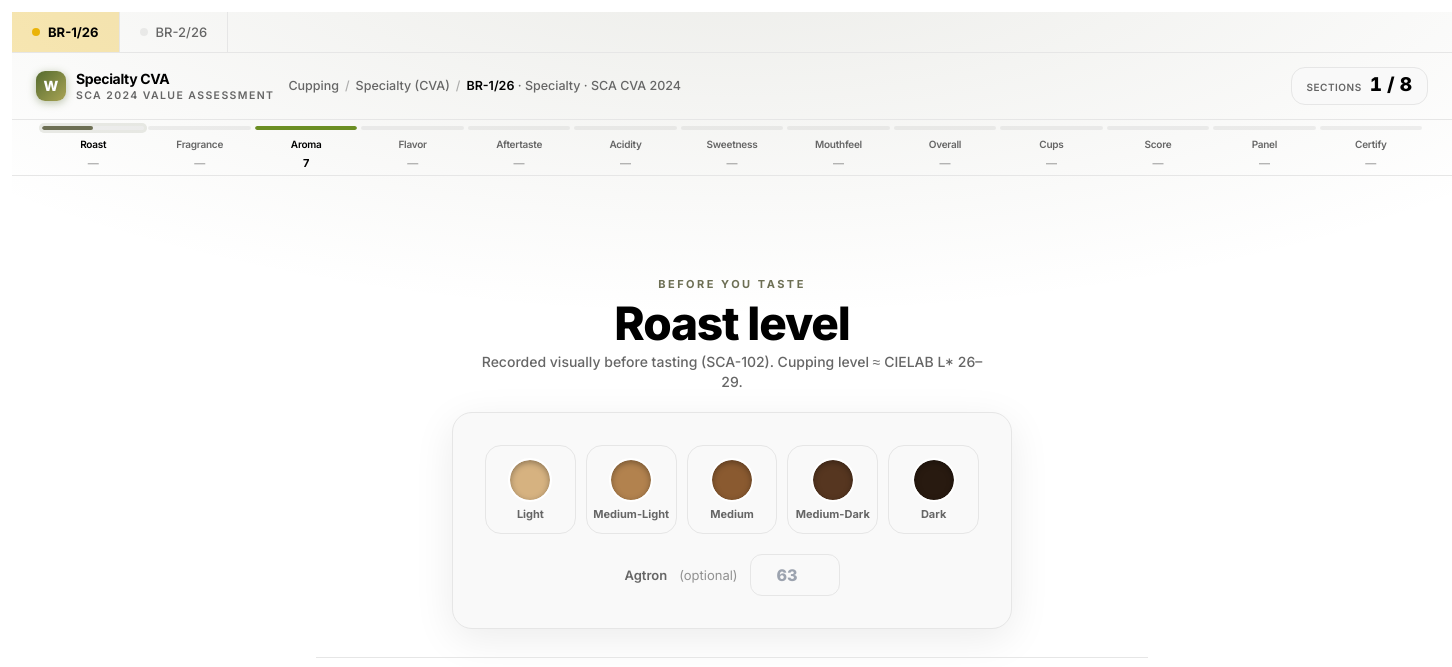
Test: CvaJourney step-major navigation (SCA-102 §7; locked decision 2) › the lot strip says who is rated for THIS section
Expected: the button "Sections 1 / 8" is shown, [1291,67,1428,105]
Click the button "Aroma 7". click: {"x": 306, "y": 148}
box: [253,120,359,175]
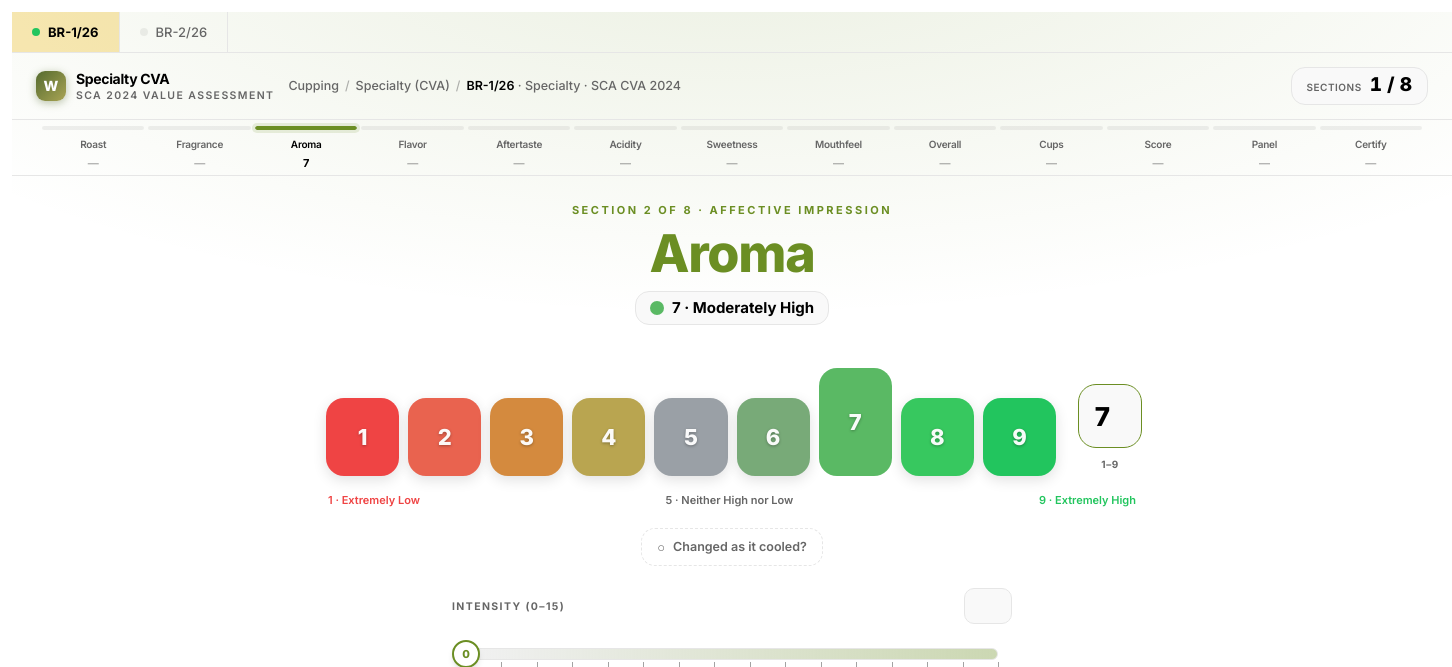
Expected: the button with aria-label "BR-2/26 · not rated" is shown, [120,12,228,52]
Expected: the button with aria-label "BR-1/26 · rated" is shown, [12,12,120,52]
a different section, a different answer
Click the button "Flavor —". click: {"x": 413, "y": 148}
box: [359,120,466,175]
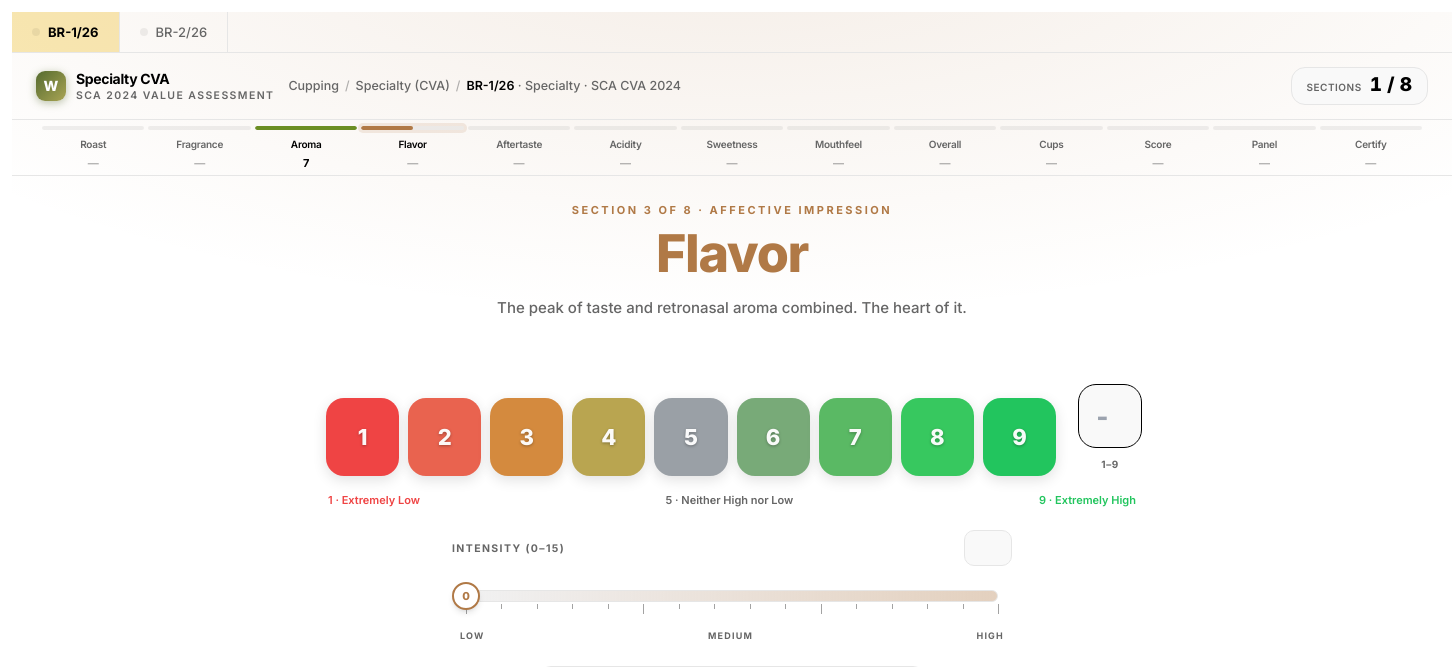
Expected: the button with aria-label "BR-1/26 · not rated" is shown, [12,12,120,52]
